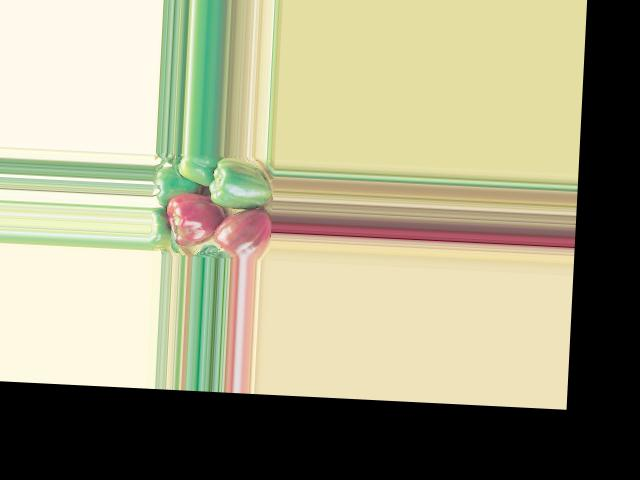bell_pepper: (213, 210, 272, 258)
